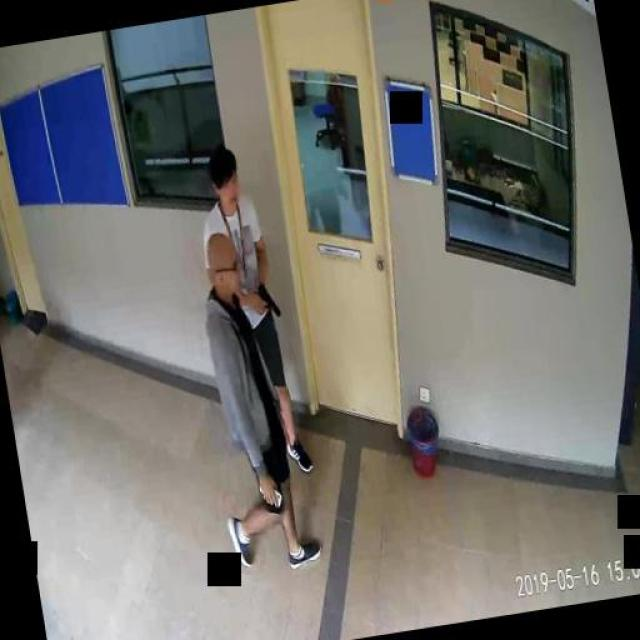gun: (255, 280, 279, 318)
